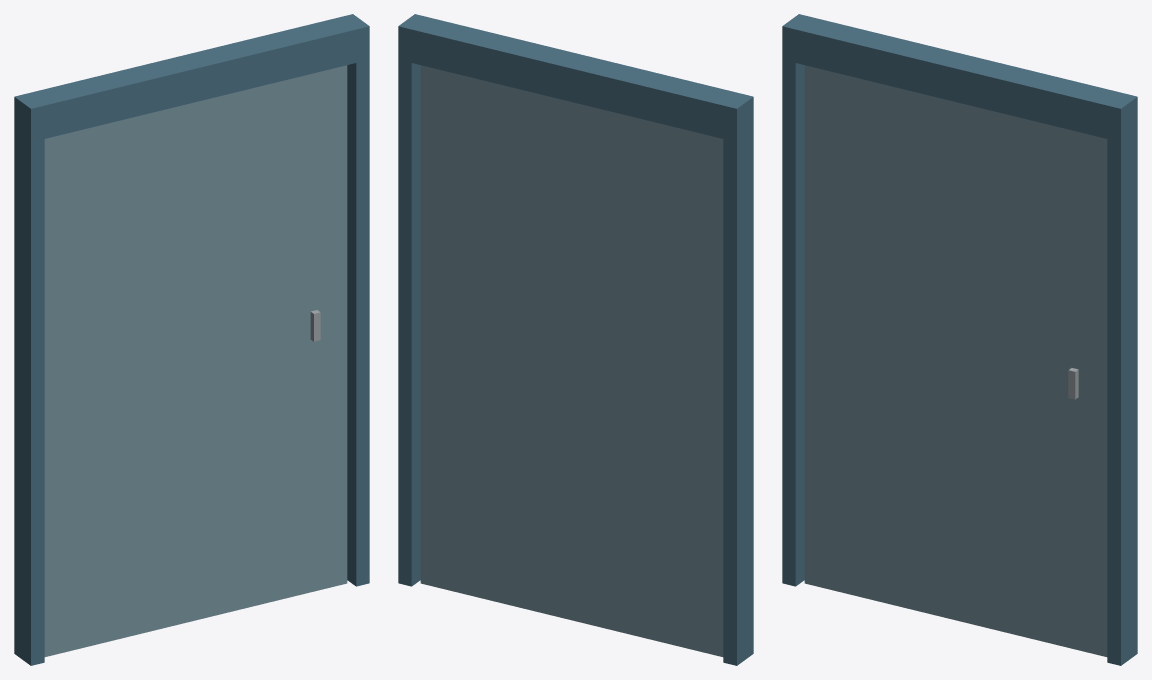
3 renders of one model, left to right at view 1: azimuth 30°, elevation 25°; view 2: azimuth 150°, elevation 25°; view 3: azimuth 330°, elevation 25°, orthographic.
Visible parts, largest first — view 1: leaf, header, post0, post1; view 2: leaf, header, post0, post1; view 3: leaf, header, post1, post0.
Boxes of the visible parts, left/top/right/bottom form: leaf: left=44, top=65, right=347, bottom=656; header: left=14, top=17, right=369, bottom=142; post0: left=14, top=93, right=44, bottom=665; post1: left=340, top=14, right=369, bottom=586; leaf: left=420, top=65, right=723, bottom=656; header: left=398, top=17, right=753, bottom=141; post0: left=723, top=93, right=753, bottom=665; post1: left=398, top=14, right=427, bottom=586; leaf: left=804, top=65, right=1107, bottom=656; header: left=782, top=17, right=1137, bottom=141; post1: left=1107, top=93, right=1137, bottom=665; post0: left=782, top=14, right=811, bottom=586.
Size of the model in its own units: 1.4 by 2.2 by 0.12.
